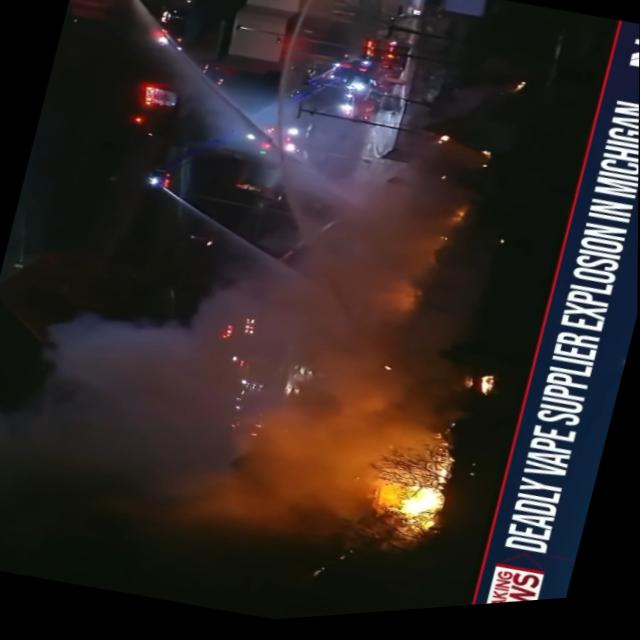Fire: (362, 442, 455, 555)
